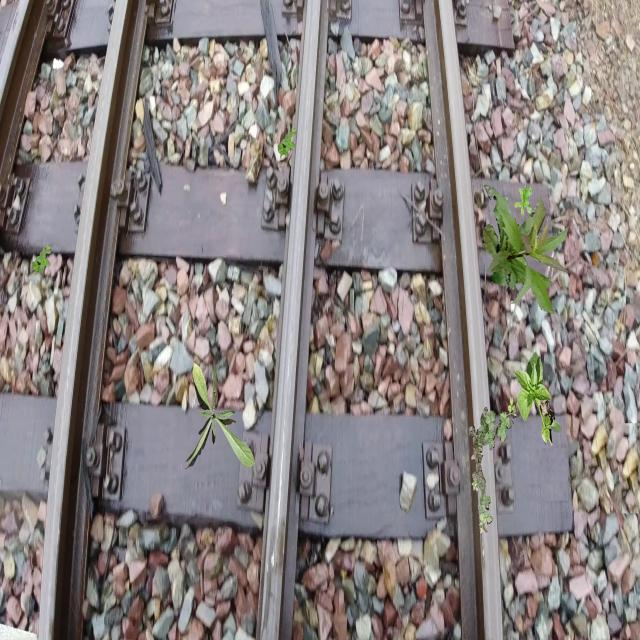Plant: (482, 185, 570, 315), (183, 362, 254, 470), (469, 397, 518, 535), (514, 352, 562, 447), (277, 127, 296, 160), (32, 244, 51, 276), (514, 185, 532, 217)
